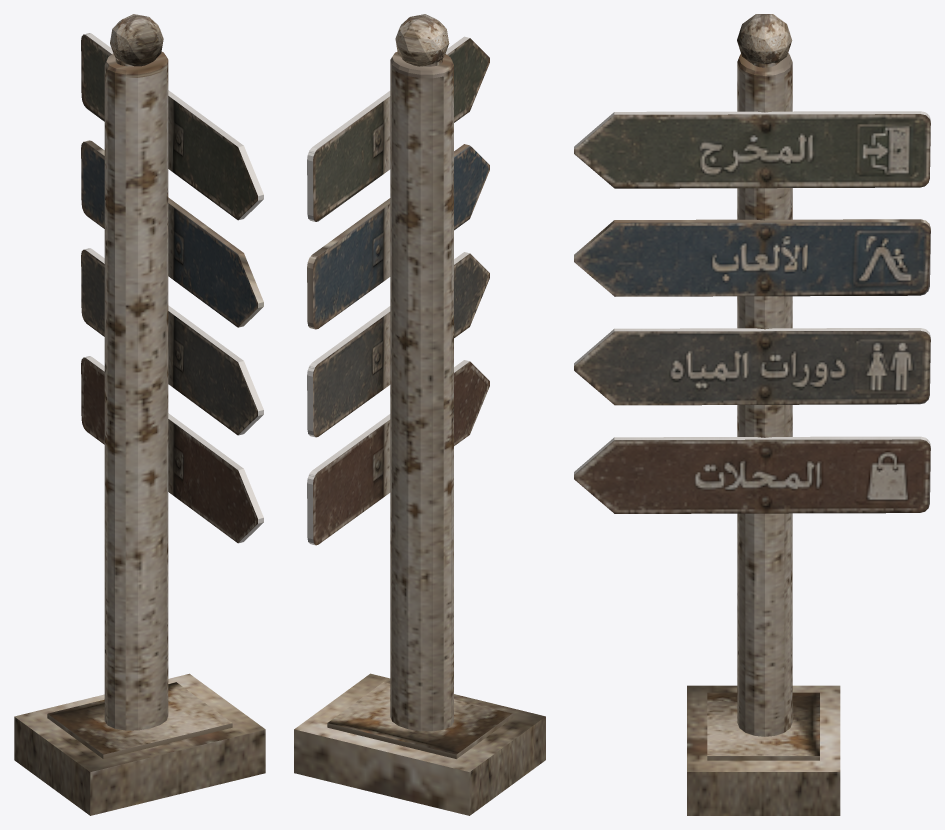
The model's file is Guidance Signs.fbx.
3 renders of one model, left to right at view 1: azimuth 30°, elevation 25°; view 2: azimuth 150°, elevation 25°; view 3: azimuth 270°, elevation 25°, orthographic.
Parts seen in each view (by area): view 1: Cylinder, Cube, Plane.003, Plane.001, Plane.002, Plane, Icosphere; view 2: Cylinder, Cube, Plane.003, Plane, Plane.001, Plane.002, Icosphere; view 3: Plane.003, Plane, Plane.001, Plane.002, Cylinder, Cube, Icosphere.
Boxes of the visible parts, x1,y1,x2,y2 form: Cylinder: (104, 52, 168, 730); Cube: (14, 673, 265, 815); Plane.003: (81, 33, 263, 220); Plane.001: (81, 248, 263, 435); Plane.002: (81, 356, 263, 543); Plane: (81, 140, 263, 327); Icosphere: (110, 14, 163, 66); Cylinder: (390, 51, 453, 731); Cube: (294, 673, 545, 815); Plane.003: (307, 36, 489, 221); Plane: (307, 144, 489, 329); Plane.001: (307, 252, 489, 437); Plane.002: (307, 360, 489, 545); Icosphere: (395, 14, 449, 66); Plane.003: (574, 111, 930, 188); Plane: (574, 219, 930, 296); Plane.001: (574, 328, 930, 405); Plane.002: (574, 436, 930, 513); Cylinder: (737, 53, 792, 736); Cube: (687, 685, 840, 815); Icosphere: (737, 14, 792, 64).
Size of the model in its own units: 50.55 by 207 by 88.39.
1 material, 1 textured.
